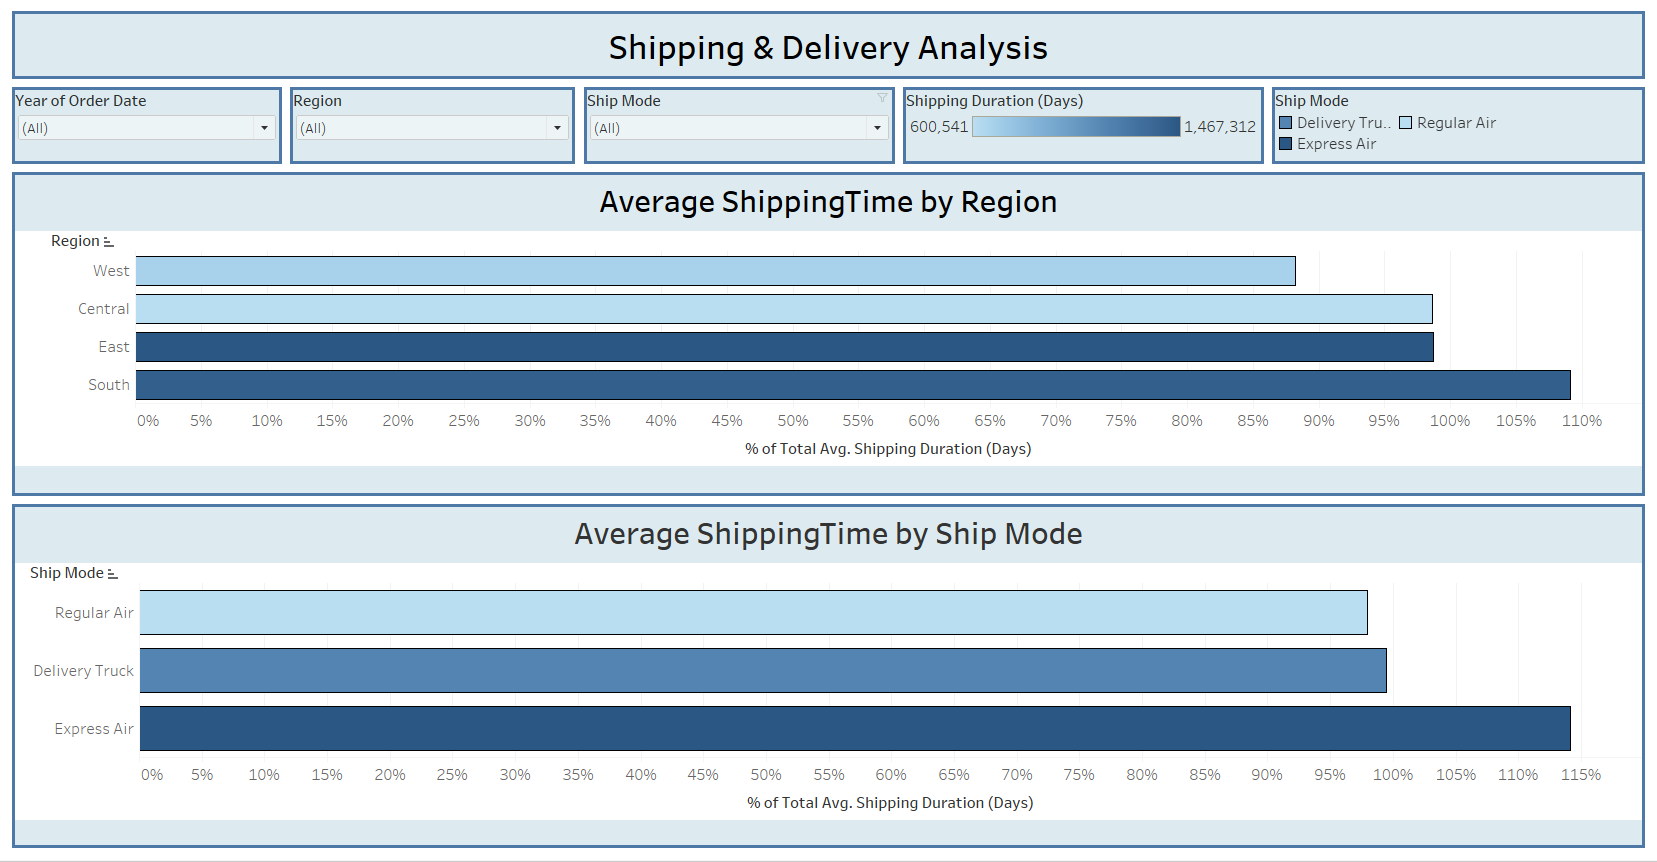

The page's visual inventory and layout, read from the dashboard file:
{"tool":"tableau","page":{"name":"Shipping & Delivery Analysis","canvas":[1000,1000],"units":"permille","ordinal":5},"visuals":[{"type":"text","box":[4.8,10,990.3,88.6]},{"type":"filter","title":"Avg. Ship.Time by Region","param":"[federated.0lc2qp609r7qte17zzql31nmvyj1].[yr:Order Date:ok]","box":[4.8,98.6,168.1,98.6]},{"type":"filter","title":"Avg. Ship.Time by Region","param":"[federated.0lc2qp609r7qte17zzql31nmvyj1].[none:Region:nk]","box":[172.9,98.6,176.9,98.6]},{"type":"filter","title":"Avg. Ship.Time by Region","param":"[federated.0lc2qp609r7qte17zzql31nmvyj1].[none:New Transportation:nk]","box":[349.8,98.6,192.7,98.6]},{"type":"legend","title":"Avg. Ship.Time by Region","param":"[federated.0lc2qp609r7qte17zzql31nmvyj1].[sum:Calculation_1281555592610201600:qk","box":[542.4,98.6,222.6,98.6]},{"type":"legend","title":"Avg. Ship.Time by Ship Mode","param":"[federated.0lc2qp609r7qte17zzql31nmvyj1].[none:New Transportation:nk]","box":[765,98.6,230.2,98.6]},{"type":"worksheet","title":"Avg. Ship.Time by Region","mark":"Automatic","rows":["Region"],"cols":["Calculation_1281555592610201600"],"box":[4.8,197.2,990.3,384.5]},{"type":"worksheet","title":"Avg. Ship.Time by Ship Mode","mark":"Automatic","rows":["New Transportation"],"cols":["Calculation_1281555592610201600"],"box":[4.8,581.8,990.3,408.3]}]}

Visuals, with their boxes on the dashboard's canvas, which has no fixed pixel size, in thousandths of its width and height (x1, y1, x2, y2). These are canvas units, not pixel positions in the 1657x862 screenshot, which may show the page scaled, cropped or inside an application window:
text: x1=5, y1=10, x2=995, y2=99
"Avg. Ship.Time by Region" filter: x1=5, y1=99, x2=173, y2=197
"Avg. Ship.Time by Region" filter: x1=173, y1=99, x2=350, y2=197
"Avg. Ship.Time by Region" filter: x1=350, y1=99, x2=542, y2=197
"Avg. Ship.Time by Region" legend: x1=542, y1=99, x2=765, y2=197
"Avg. Ship.Time by Ship Mode" legend: x1=765, y1=99, x2=995, y2=197
"Avg. Ship.Time by Region" worksheet: x1=5, y1=197, x2=995, y2=582
"Avg. Ship.Time by Ship Mode" worksheet: x1=5, y1=582, x2=995, y2=990
